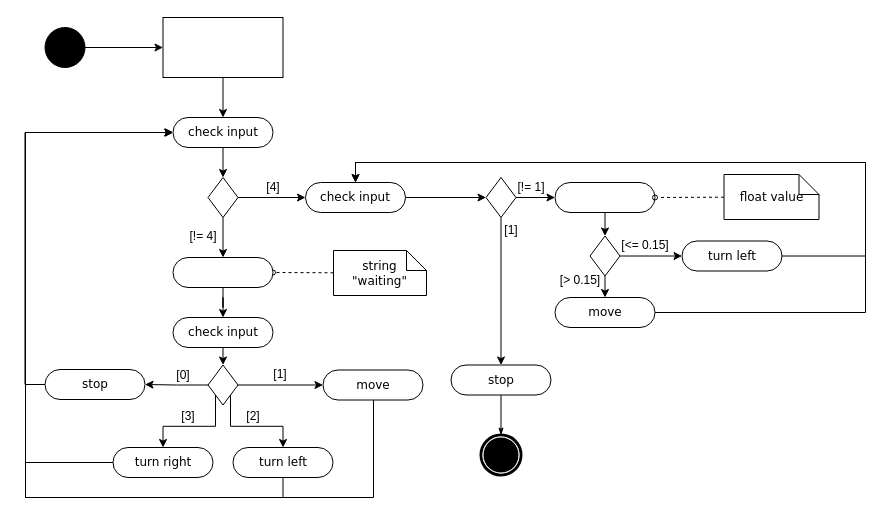
This 891x523 diagram has some shape labels left out. The centre of each missing label's shape, as x and y in pixels:
"check for wall" belongs at [604,197].
"draw LCD" belongs at [222,272].
"Porgam loaded" belongs at [222,47].
